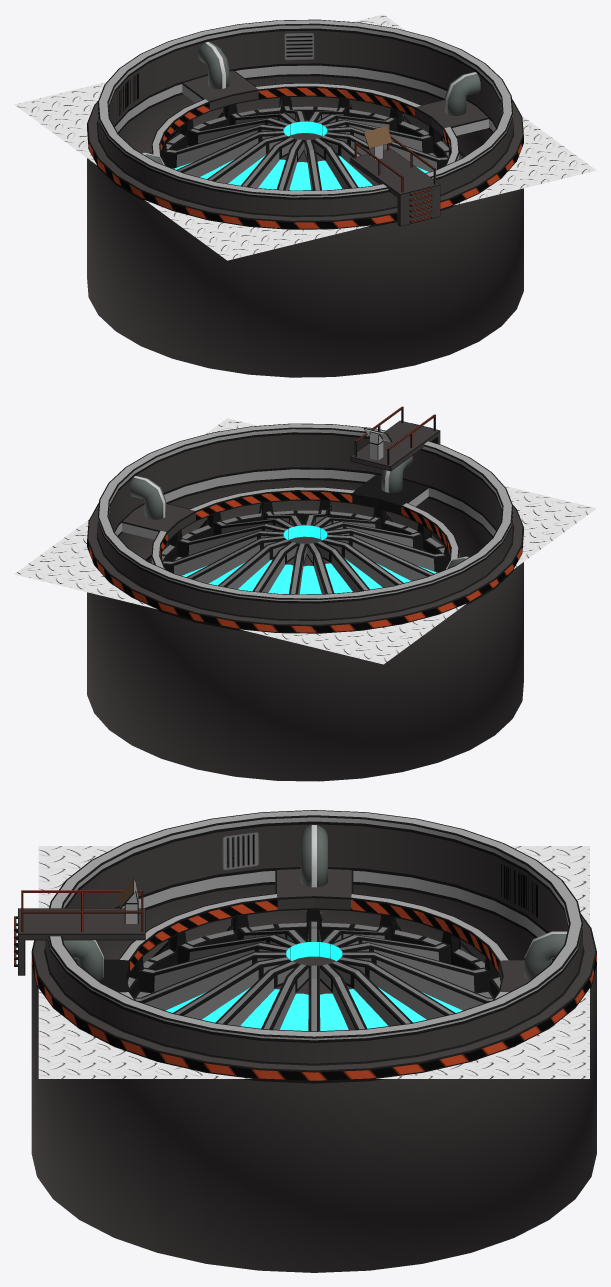
File: Generator.fbx
3 views of the same model, one above another, from view 1: azimuth 30°, elevation 25°; view 2: azimuth 150°, elevation 25°; view 3: azimuth 270°, elevation 25° (orthographic). The views are drawn at different scales.
Parts seen in each view (by area): view 1: Gen Shell, Gen Center, Gen floor; view 2: Gen Shell, Gen Center, Gen floor; view 3: Gen Shell, Gen Center, Gen floor.
Boxes of the visible parts, left/top/right/bottom form: Gen Shell: left=87, top=19, right=523, bottom=377; Gen Center: left=150, top=96, right=464, bottom=190; Gen floor: left=14, top=14, right=596, bottom=260; Gen Shell: left=87, top=406, right=523, bottom=781; Gen Center: left=146, top=500, right=460, bottom=594; Gen floor: left=14, top=418, right=596, bottom=664; Gen Shell: left=14, top=810, right=596, bottom=1272; Gen Center: left=127, top=908, right=500, bottom=1031; Gen floor: left=38, top=846, right=589, bottom=1078.
Bounding box in the file's own units: 16.92 × 16.41 × 8.58.
